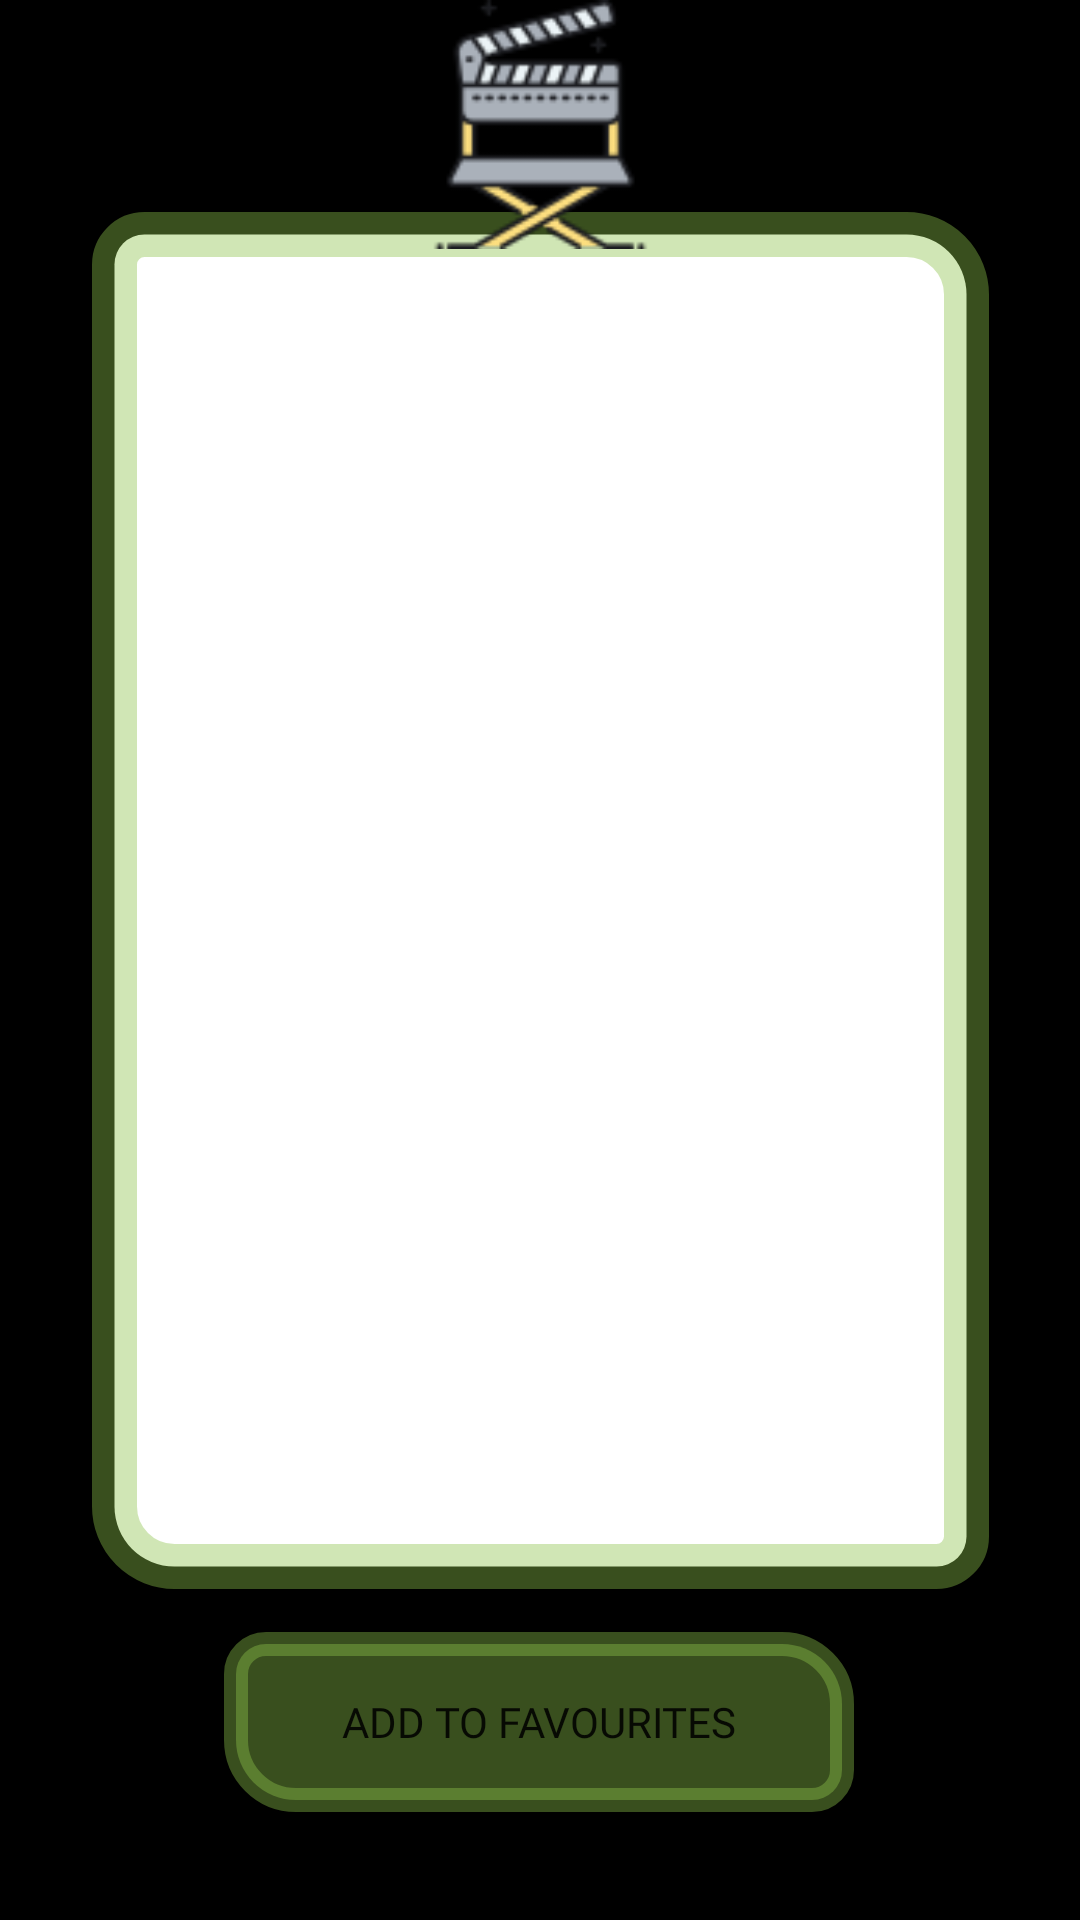

Icons on this 1080×1920 Android screen, each with the point to tap as (x,y):
chair: (540,124)
